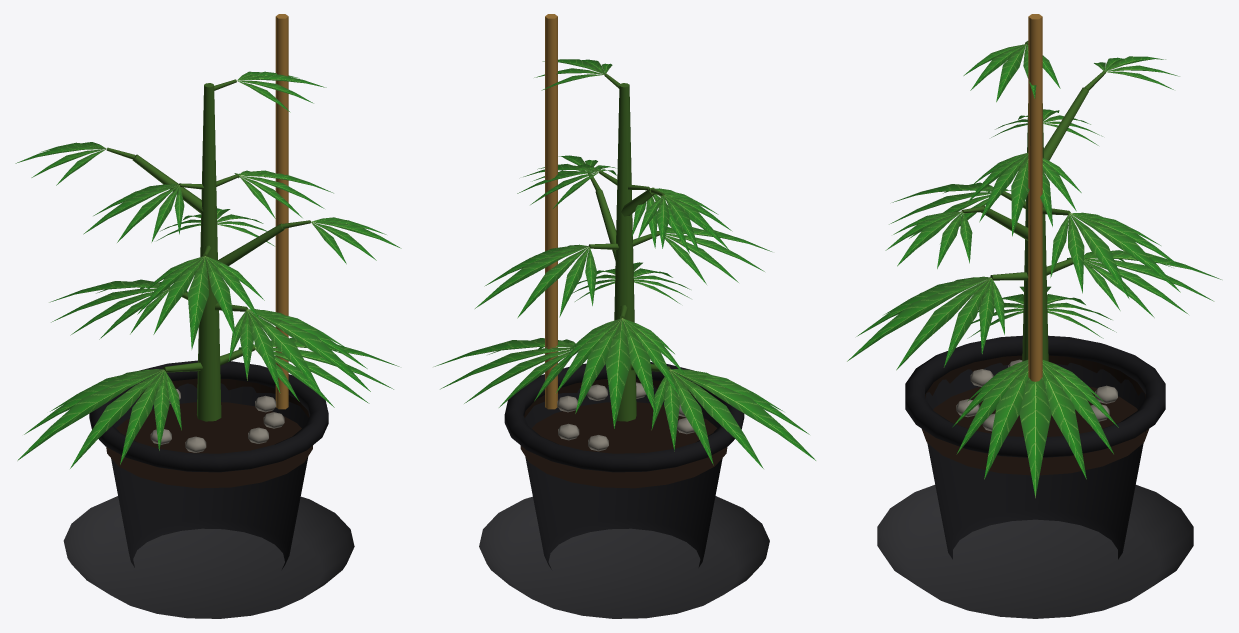
The model's file is WeedPot2.obj.
3 renders of one model, left to right at view 1: azimuth 30°, elevation 25°; view 2: azimuth 150°, elevation 25°; view 3: azimuth 270°, elevation 25°, orthographic. The views are drawn at different scales.
Bounding box in the file's own units: 0.2379 × 0.316 × 0.1843.
